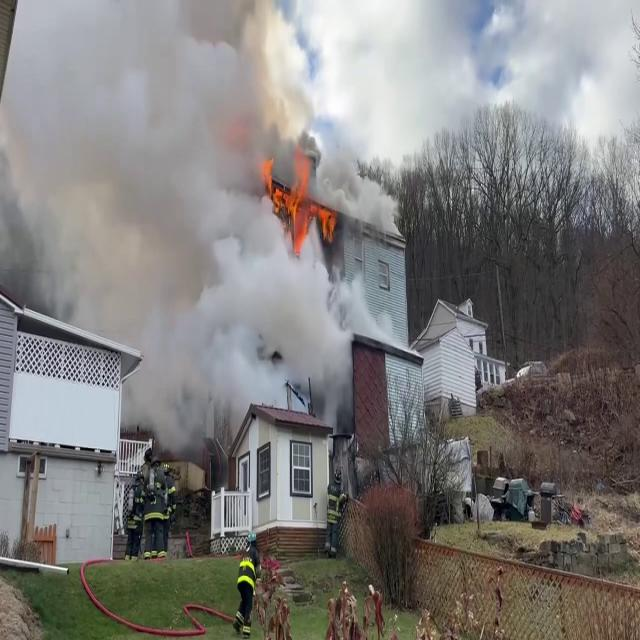Fire: (274, 142, 340, 256)
Smoke: (0, 0, 371, 438)
